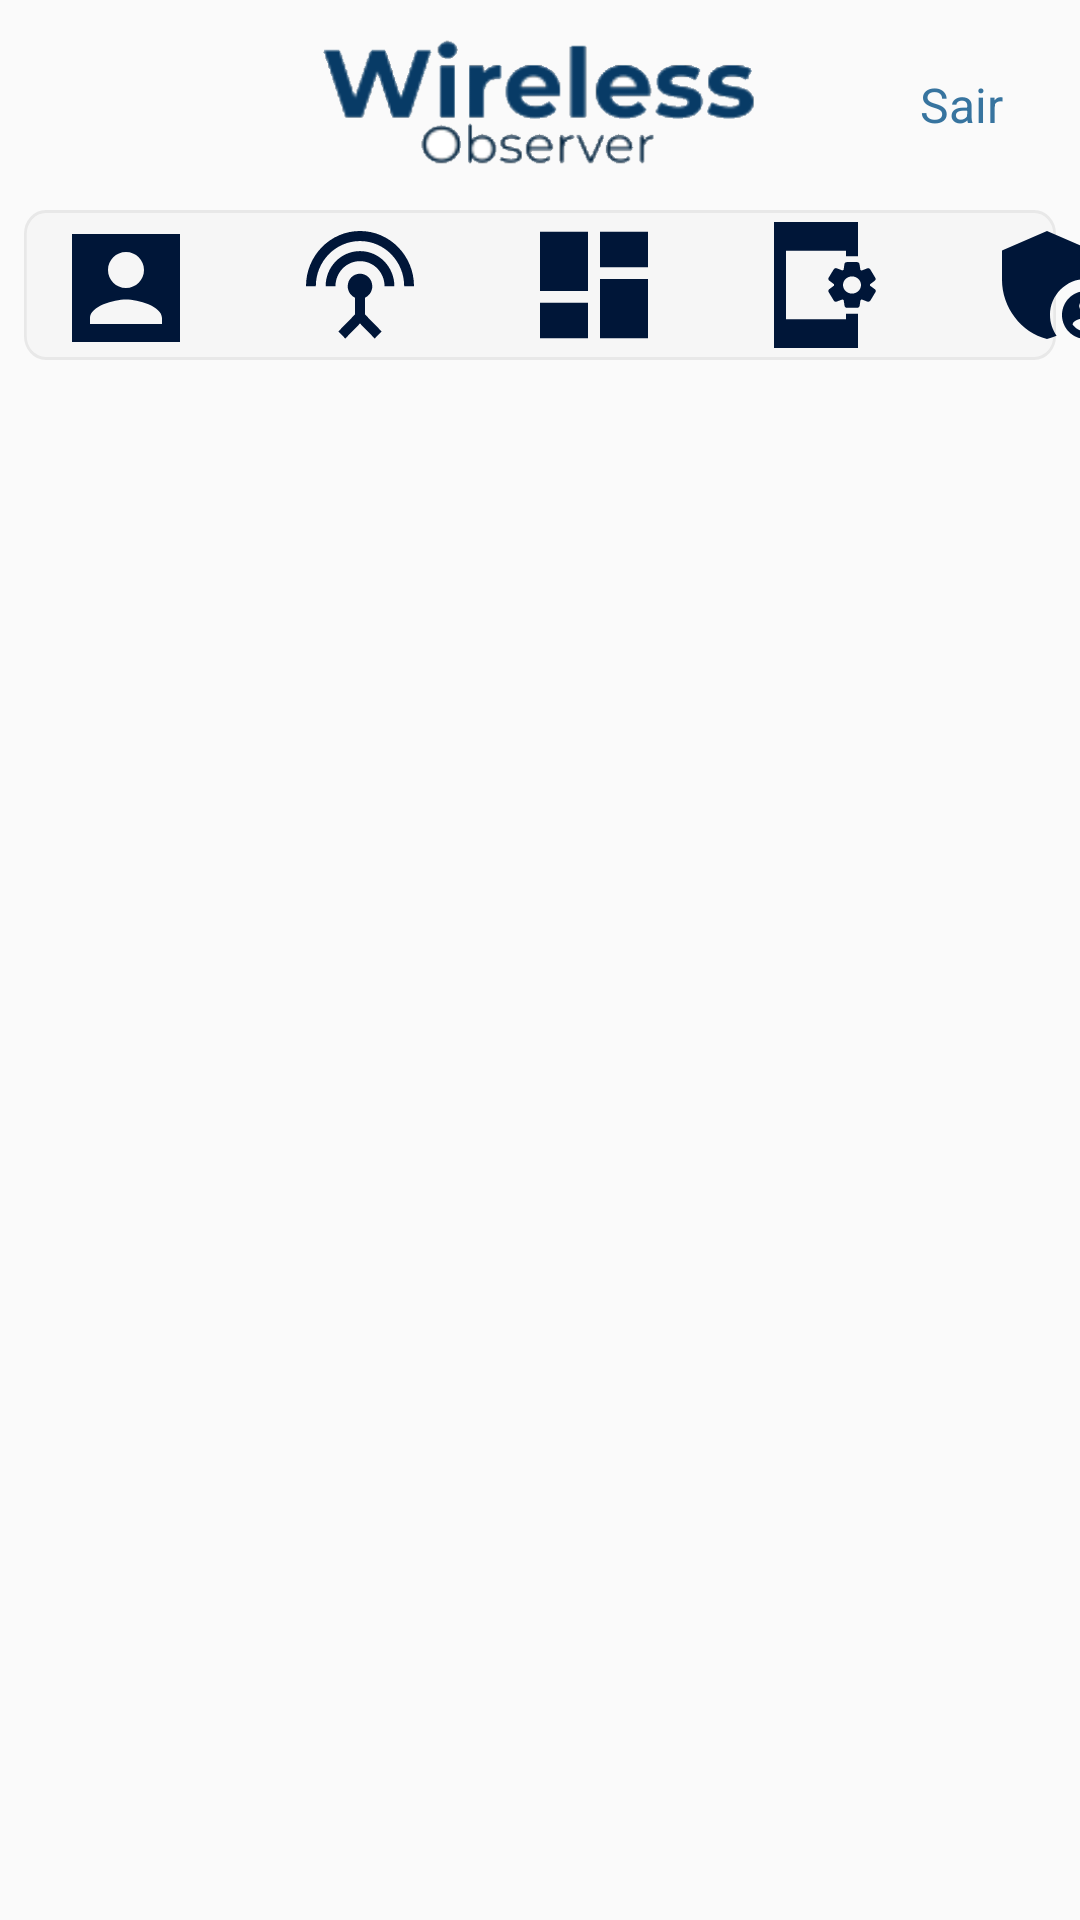

Named icons in this screenshot (1080x1920) and their bounding boxes, [x1, y1, x2, y2]:
antenna: [306, 231, 414, 339]
config: [774, 222, 876, 348]
dashboard: [540, 231, 648, 339]
user: [72, 234, 180, 342]
